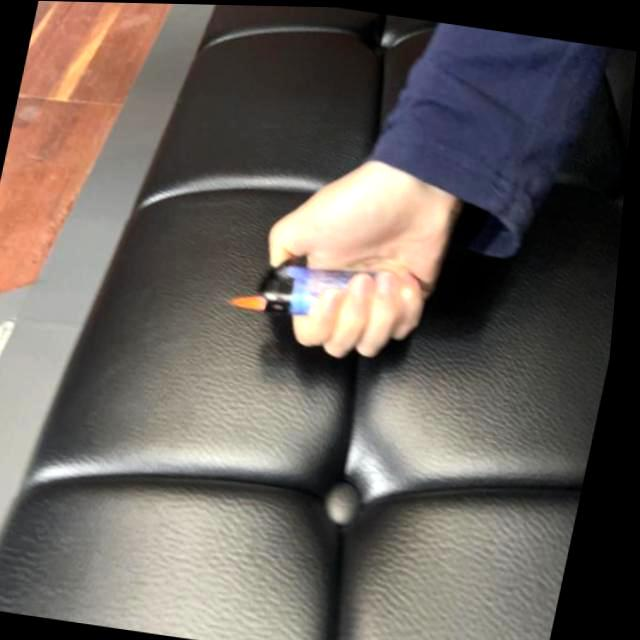fire: (228, 288, 276, 312)
